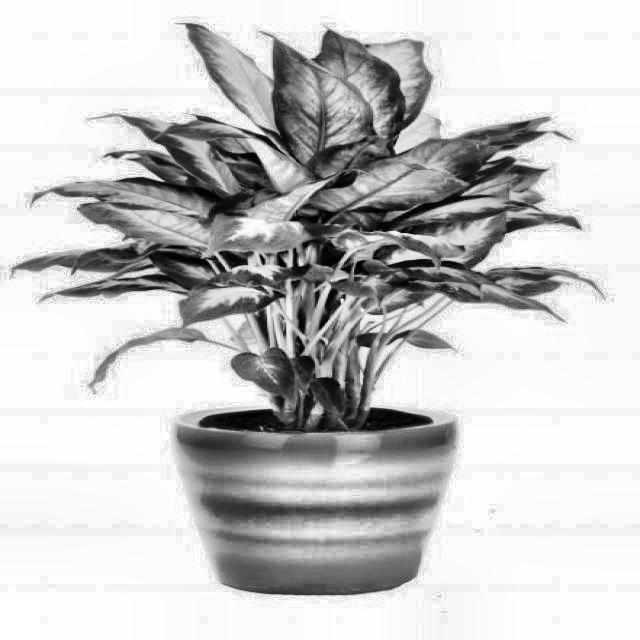plants: (7, 22, 610, 599)
